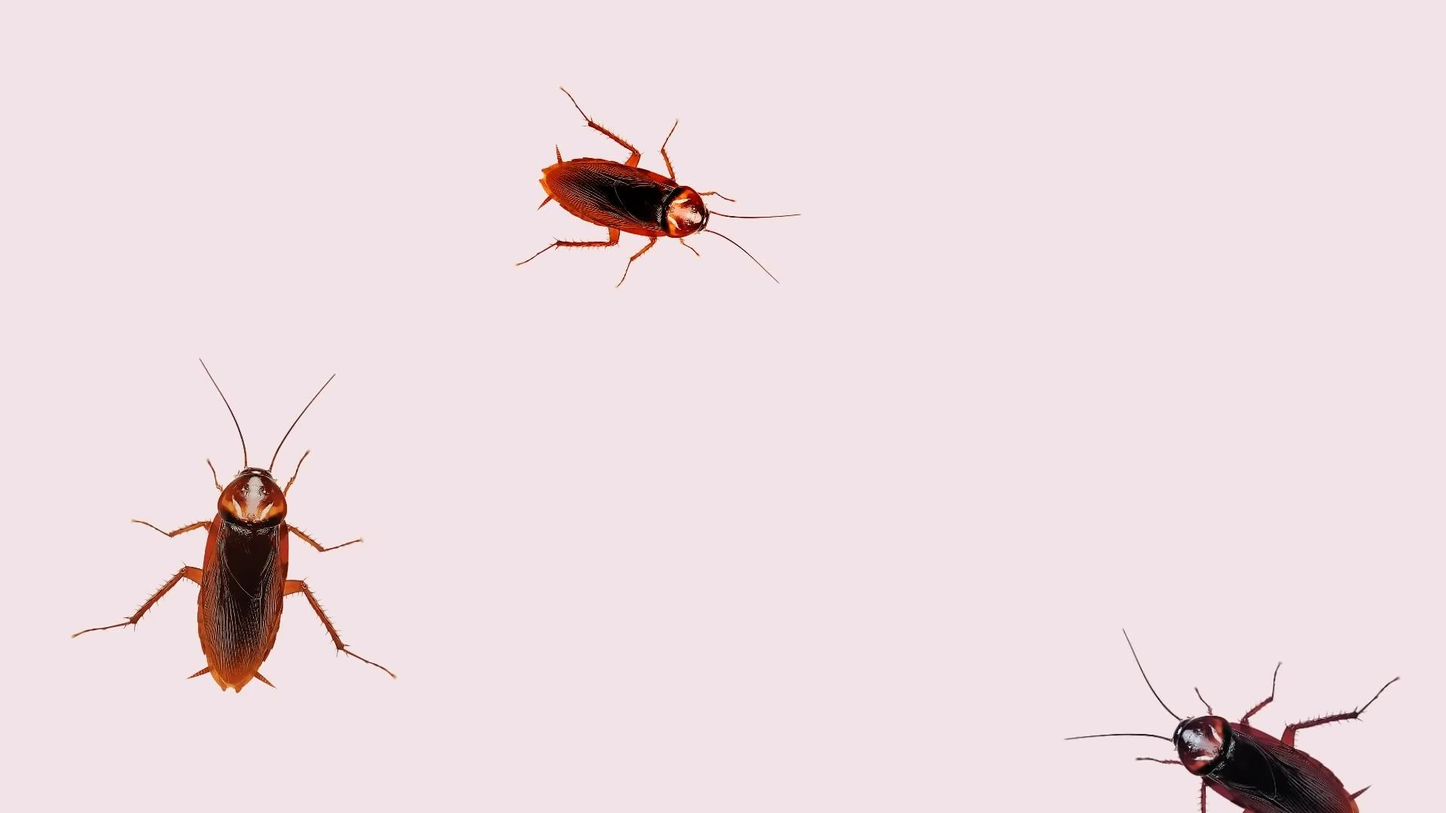cockroach: (70, 341, 394, 693), (1051, 606, 1399, 813), (513, 73, 785, 304)
